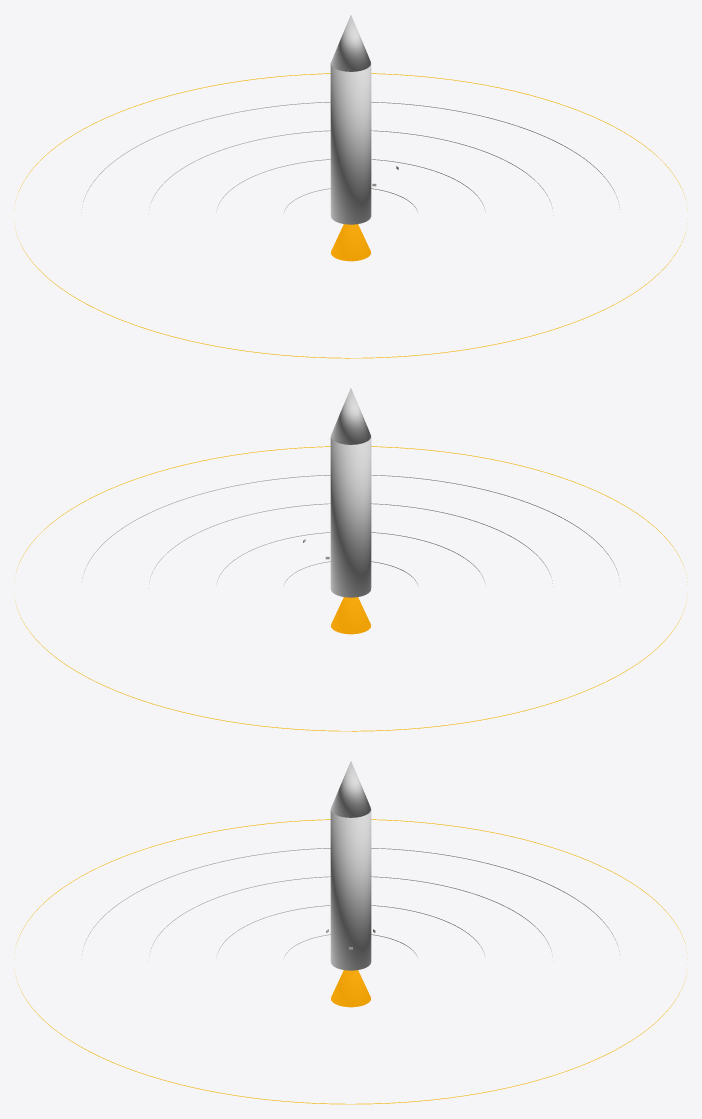
File: rocket_scene.glb
3 renders of one model, top to bottom at view 1: azimuth 30°, elevation 25°; view 2: azimuth 150°, elevation 25°; view 3: azimuth 270°, elevation 25°, orthographic.
Parts seen in each view (by area): view 1: Rocket_Body, Orbit_Ring_5, Rocket_Nose, Rocket_Flame, Orbit_Ring_4; view 2: Rocket_Body, Orbit_Ring_5, Rocket_Nose, Rocket_Flame, Orbit_Ring_4; view 3: Rocket_Body, Orbit_Ring_5, Rocket_Nose, Rocket_Flame, Orbit_Ring_4.
Boxes of the visible parts, x1,y1,x2,y2 form: Rocket_Body: (330, 63, 371, 224); Orbit_Ring_5: (14, 73, 687, 358); Rocket_Nose: (331, 15, 370, 71); Rocket_Flame: (331, 224, 370, 261); Orbit_Ring_4: (81, 102, 620, 209); Rocket_Body: (330, 436, 371, 597); Orbit_Ring_5: (14, 446, 687, 731); Rocket_Nose: (331, 388, 370, 444); Rocket_Flame: (331, 597, 370, 634); Orbit_Ring_4: (81, 475, 620, 582); Rocket_Body: (330, 810, 371, 970); Orbit_Ring_5: (14, 819, 687, 1104); Rocket_Nose: (330, 761, 371, 817); Rocket_Flame: (331, 970, 370, 1007); Orbit_Ring_4: (81, 848, 620, 955).
Bounding box in the file's own units: 10 × 3.9 × 10.
